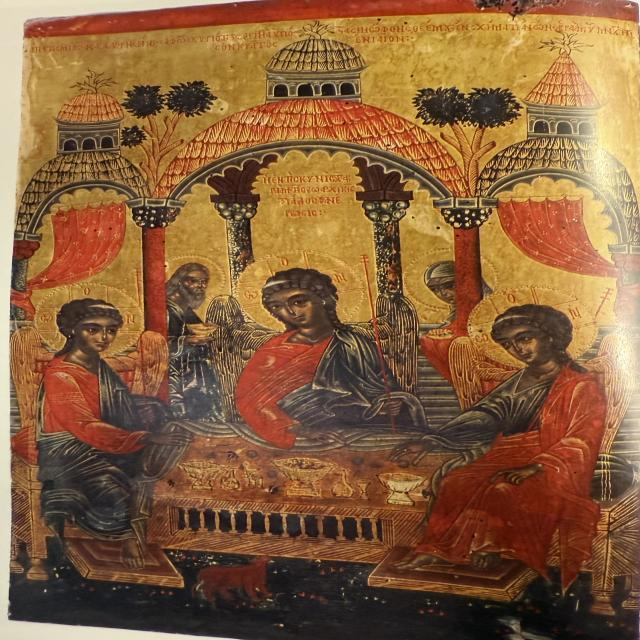angel: (434, 274, 636, 570), (184, 251, 439, 445), (17, 279, 183, 532)
aura: (467, 278, 598, 370), (236, 249, 376, 333), (32, 284, 150, 356)
chalice: (279, 456, 358, 512), (376, 468, 430, 511), (176, 459, 236, 496)
wing: (356, 291, 434, 403), (582, 332, 640, 464), (198, 293, 270, 397), (12, 322, 70, 431), (439, 335, 511, 403), (113, 328, 173, 396)
